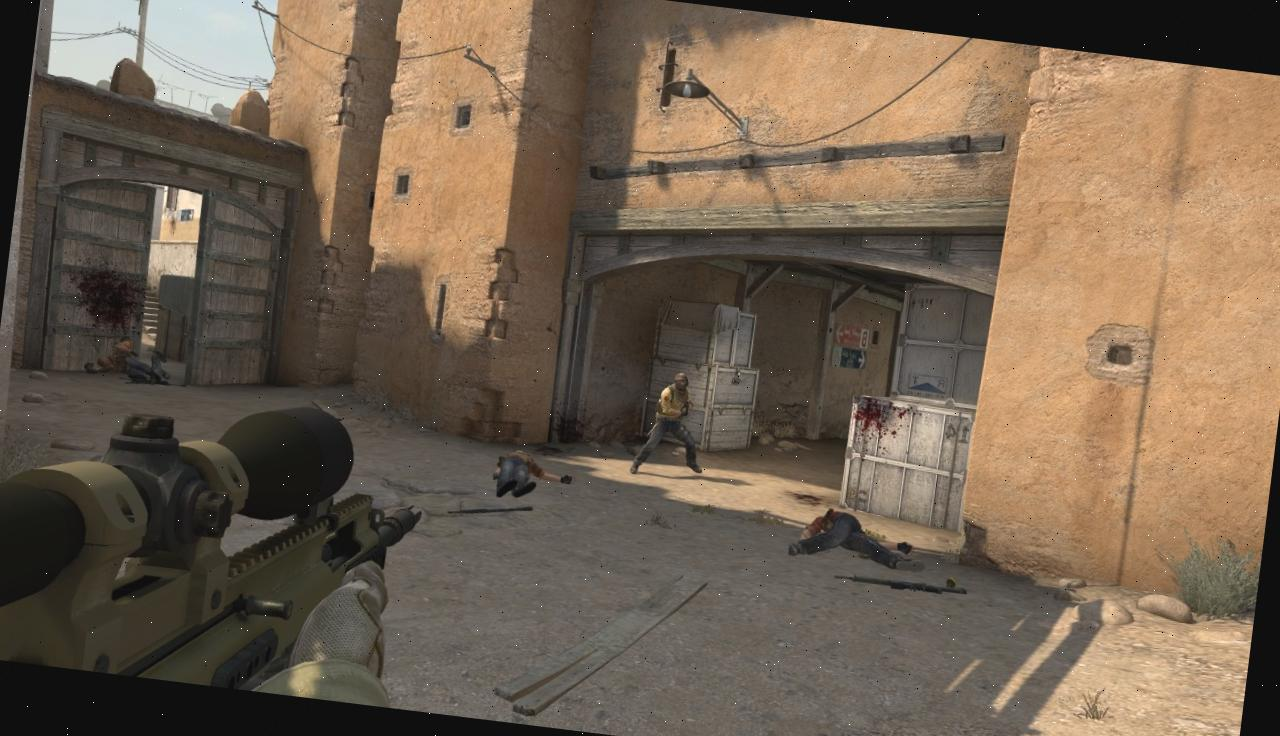sniper: (0, 368, 434, 709)
tt: (630, 368, 714, 482)
tthead: (674, 373, 689, 391)
